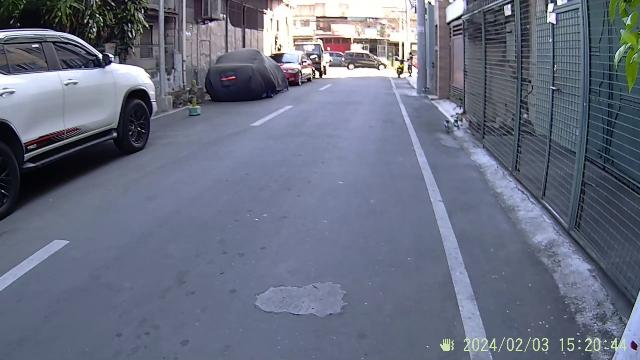car: (0, 22, 164, 228)
